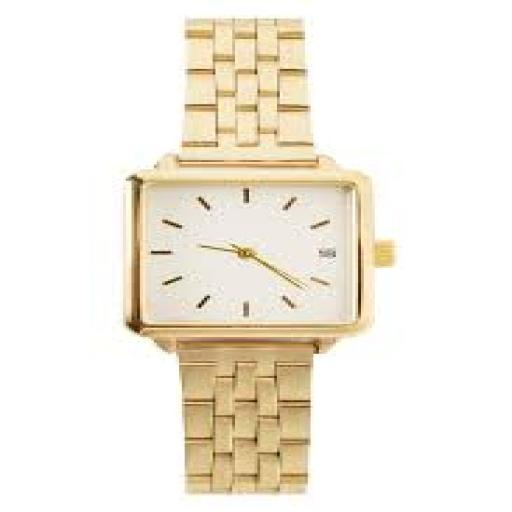KolSaati: (113, 14, 410, 508)
